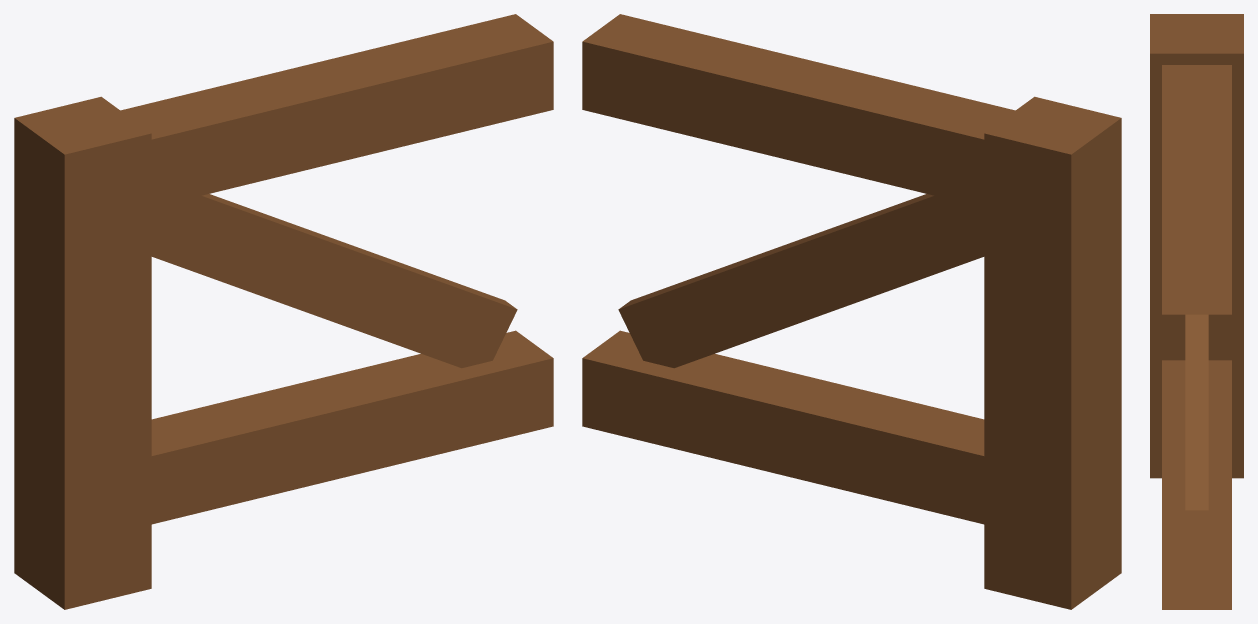
Rendered from FenceAPieceLOD1.fbx.
3 renders of one model, left to right at view 1: azimuth 30°, elevation 25°; view 2: azimuth 150°, elevation 25°; view 3: azimuth 270°, elevation 25°, orthographic. The views are drawn at different scales.
Visible parts, largest first — view 1: FenceAPieceLOD1; view 2: FenceAPieceLOD1; view 3: FenceAPieceLOD1.
Part boxes in pixels (x1,y1,x2,y2): FenceAPieceLOD1: (14, 14, 553, 609); FenceAPieceLOD1: (582, 14, 1121, 609); FenceAPieceLOD1: (1150, 14, 1243, 609).
Bounding box in the file's own units: 114 × 100 × 20.
